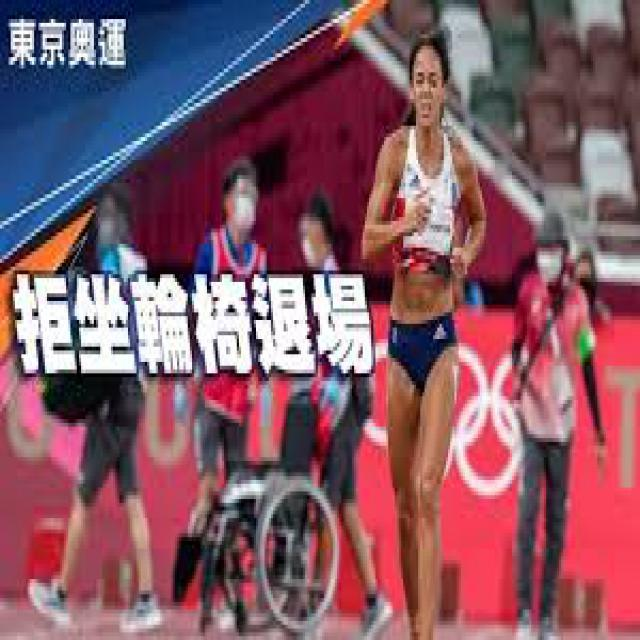wheelchairs: (205, 377, 348, 636)
